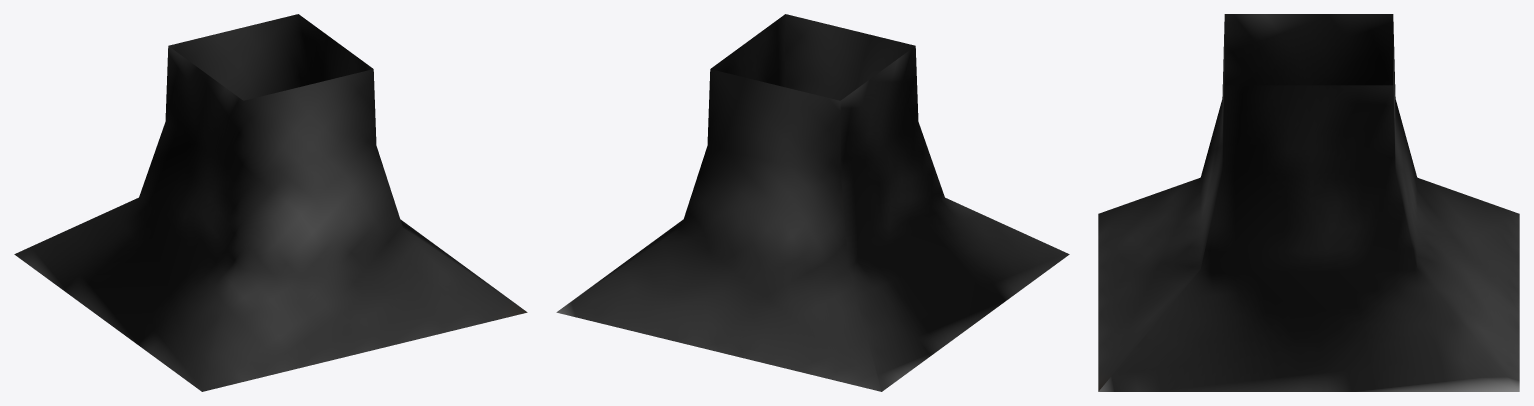
The model's file is StoveExhaust1.fbx.
3 renders of one model, left to right at view 1: azimuth 30°, elevation 25°; view 2: azimuth 150°, elevation 25°; view 3: azimuth 270°, elevation 25°, orthographic. The views are drawn at different scales.
Visible parts, largest first — view 1: StoveExhause1; view 2: StoveExhause1; view 3: StoveExhause1.
Boxes of the visible parts, bbox=[...] form: StoveExhause1: bbox=[14, 14, 527, 391]; StoveExhause1: bbox=[556, 14, 1069, 391]; StoveExhause1: bbox=[1098, 14, 1519, 391].
Bounding box in the file's own units: 1 × 0.6632 × 1.
1 material, 1 textured.
